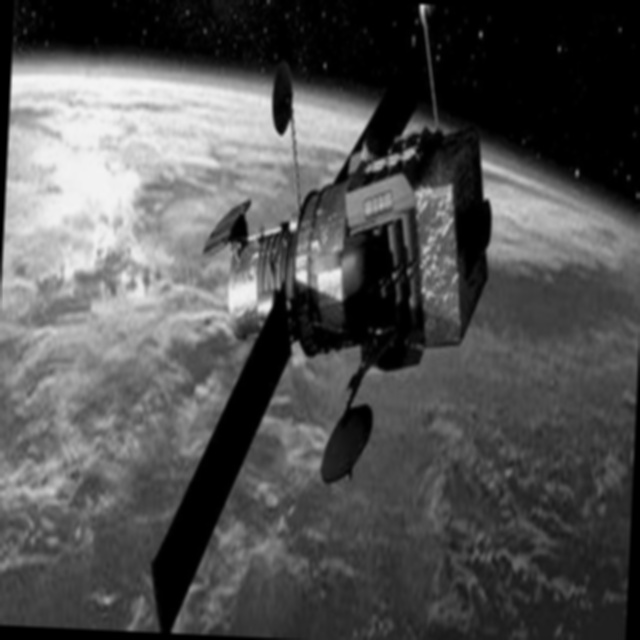medium_debris: (141, 0, 518, 640)
